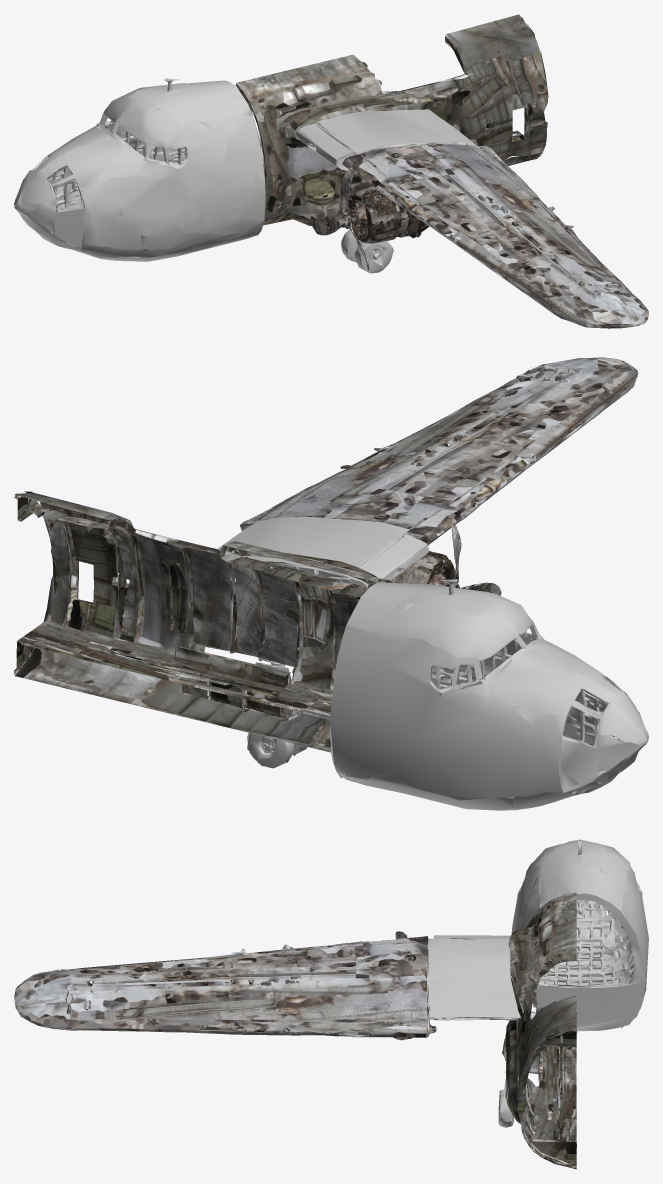
3 views of the same model, one above another, from view 1: azimuth 30°, elevation 25°; view 2: azimuth 150°, elevation 25°; view 3: azimuth 270°, elevation 25° (orthographic). The views are drawn at different scales.
Parts seen in each view (by area): view 1: plane01.png (30K); view 2: plane01.png (30K); view 3: plane01.png (30K).
Boxes of the visible parts, x1=… form: plane01.png (30K): x1=14, y1=14, x2=648, y2=328; plane01.png (30K): x1=14, y1=357, x2=648, y2=810; plane01.png (30K): x1=14, y1=839, x2=648, y2=1169.
Bounding box in the file's own units: 177 × 69.61 × 197.
